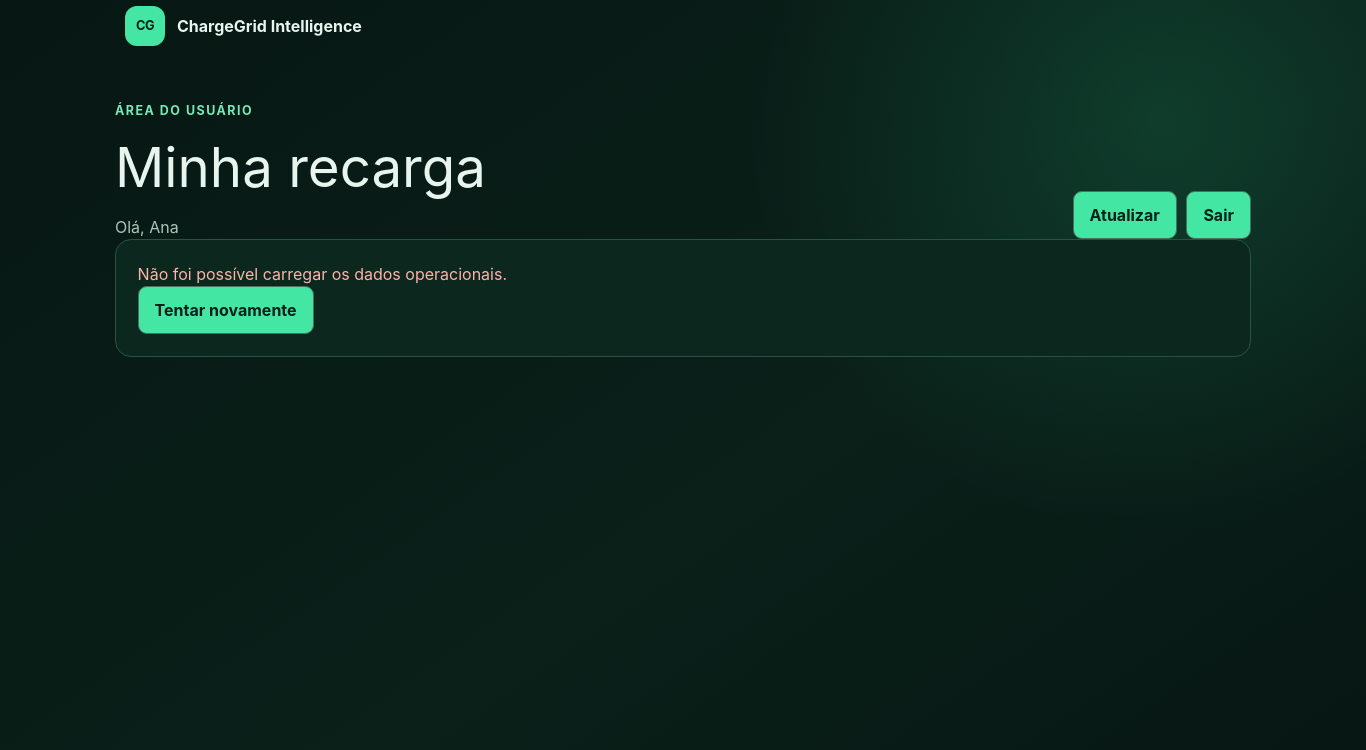
Scenario: authentication flow › shows and retries a dashboard loading error
Expected: the message shows "Não foi possível carregar os dados operacionais.", [138,264,507,284]
Click the button "Tentar novamente": (226, 310) [138,286,314,334]
(page scrolled)
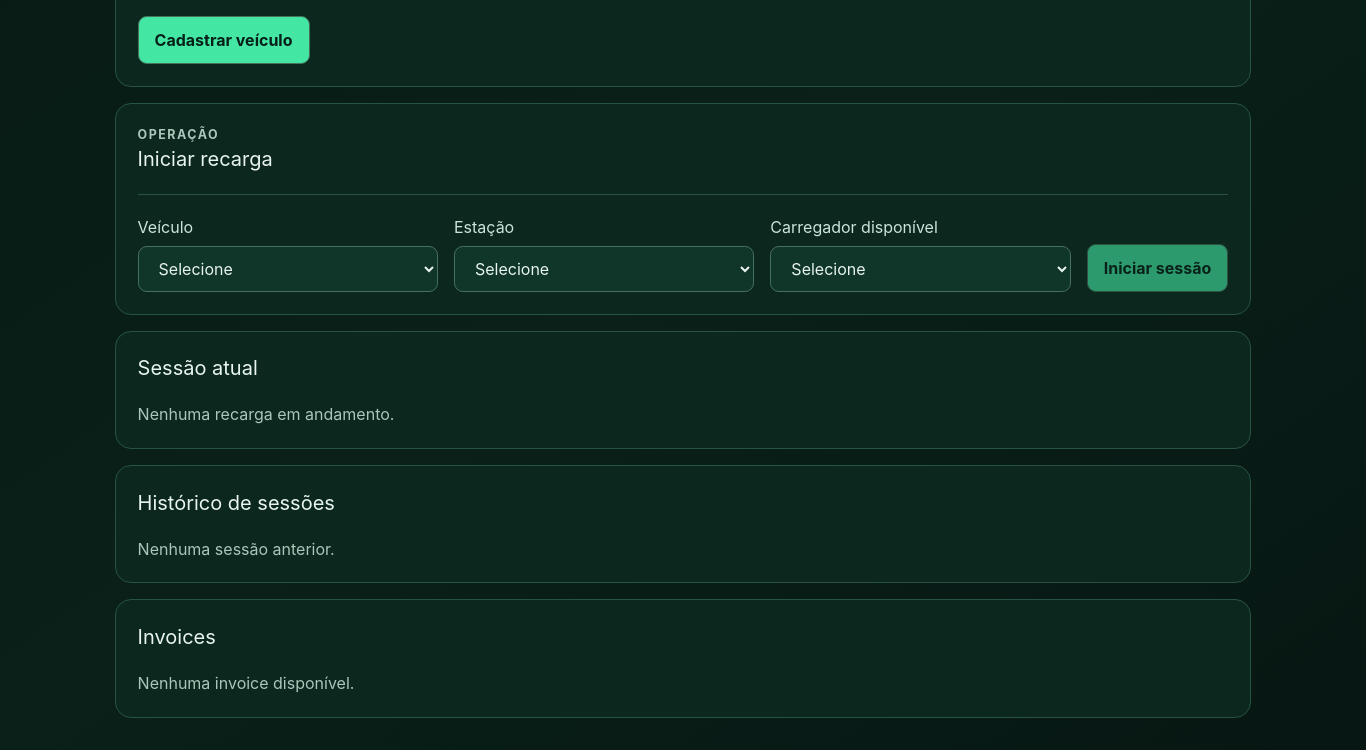
Result: the text "Nenhuma recarga em andamento." is shown at [138,404,394,424]
